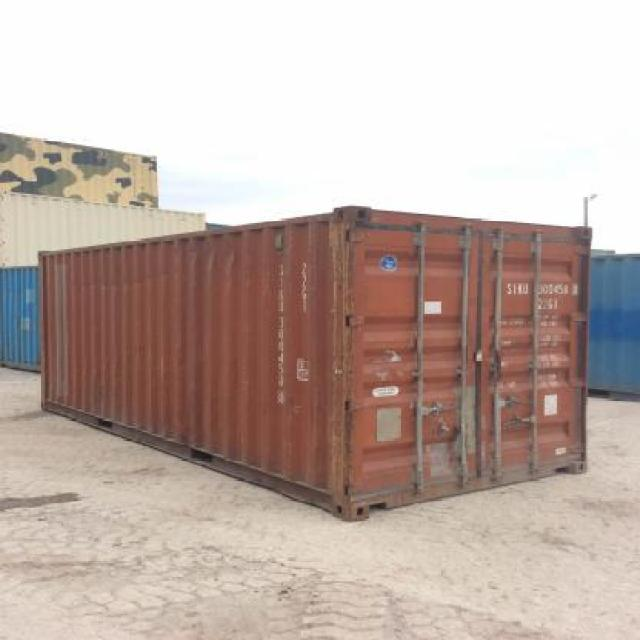ISO: (535, 298, 558, 312)
container_number: (504, 279, 576, 296)
